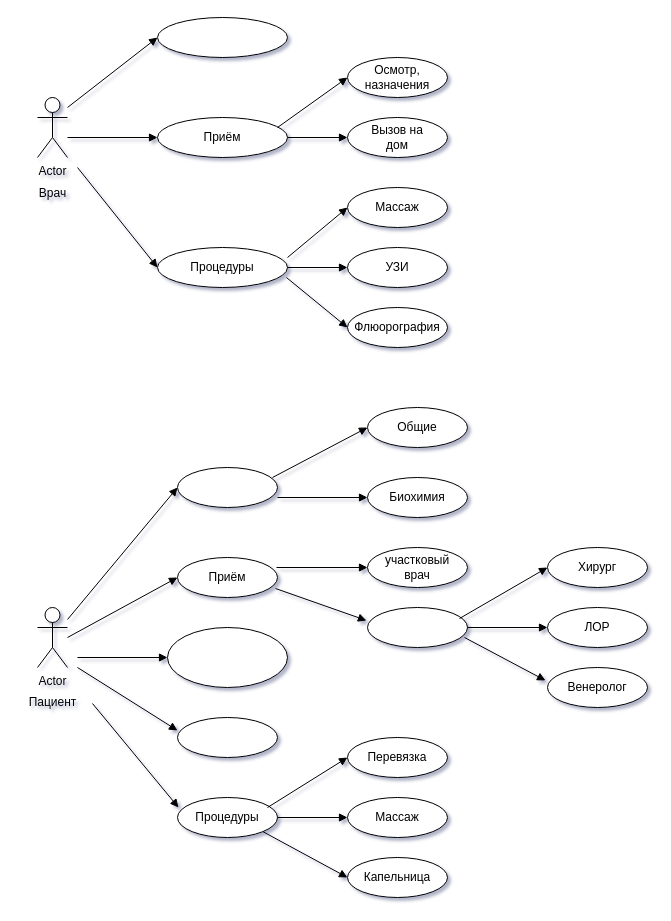
Some shapes in this 671 by 921 pixel diagram are drawn without their labels. Here are the shapes that lost their labels. From the top down, the centre of each, then its label:
(222,37): Документооборот
(227,487): Анализы
(417,627): специалист
(227,657): Справка, рез-ты анализов
(227,737): Запись к специалисту
